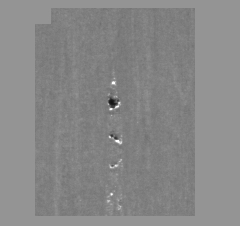oxl: (35, 10, 205, 216)
